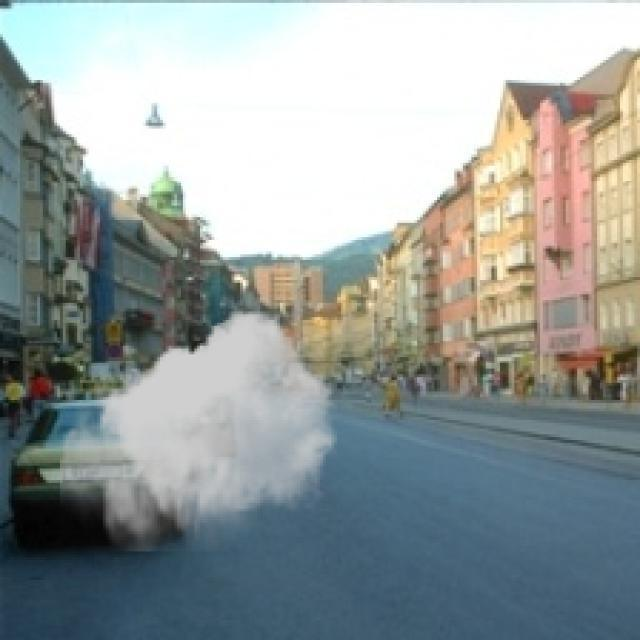Smoke: (60, 312, 337, 552)
